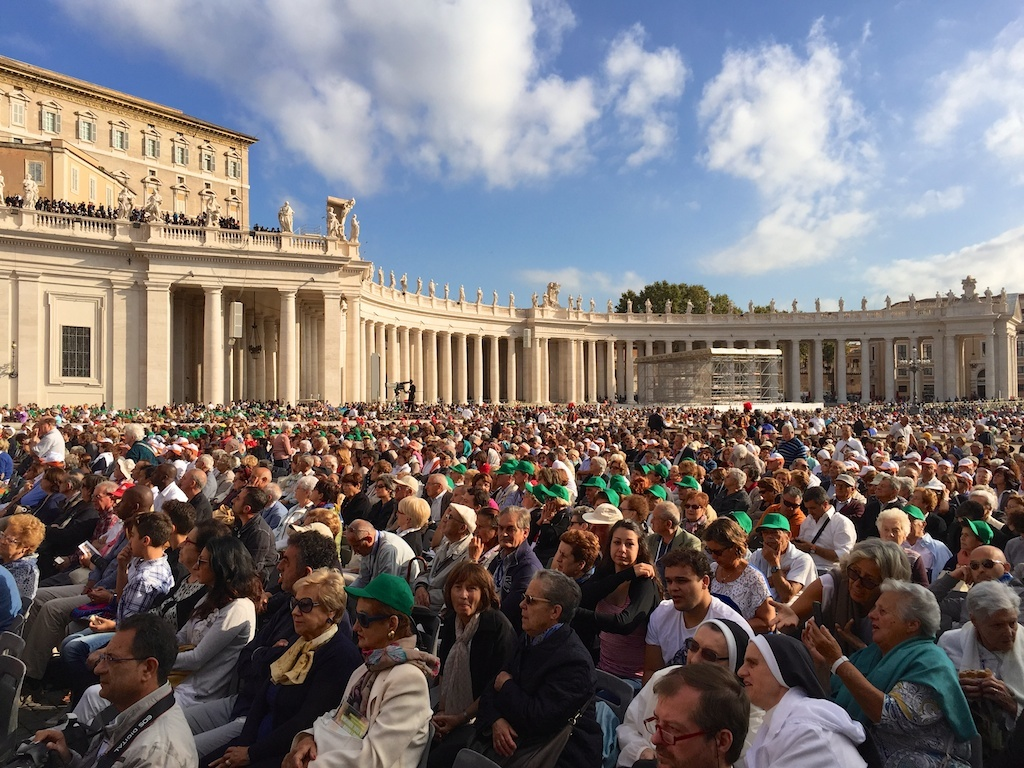Human-face: (651, 667, 743, 765), (864, 579, 946, 652), (340, 582, 418, 648), (740, 632, 802, 711), (952, 579, 1019, 652), (676, 617, 751, 672), (278, 527, 342, 590), (286, 573, 343, 641), (845, 538, 906, 599), (511, 566, 572, 626), (98, 621, 140, 694), (445, 564, 492, 624), (195, 531, 242, 582), (704, 520, 747, 570), (554, 531, 596, 579), (603, 520, 643, 560), (293, 509, 342, 539), (495, 505, 533, 539), (668, 569, 699, 610), (962, 513, 992, 551), (343, 517, 374, 552), (115, 486, 144, 523), (875, 507, 907, 539), (610, 493, 647, 520), (230, 485, 265, 513), (797, 485, 828, 515), (0, 516, 22, 558), (756, 516, 791, 542), (394, 496, 426, 524), (977, 552, 1004, 585), (437, 503, 465, 532), (129, 513, 149, 551), (684, 489, 705, 523), (180, 527, 202, 559), (649, 504, 681, 525), (150, 463, 180, 485), (832, 478, 856, 505), (872, 473, 894, 498), (179, 469, 206, 488), (95, 486, 113, 505), (913, 489, 925, 509)
